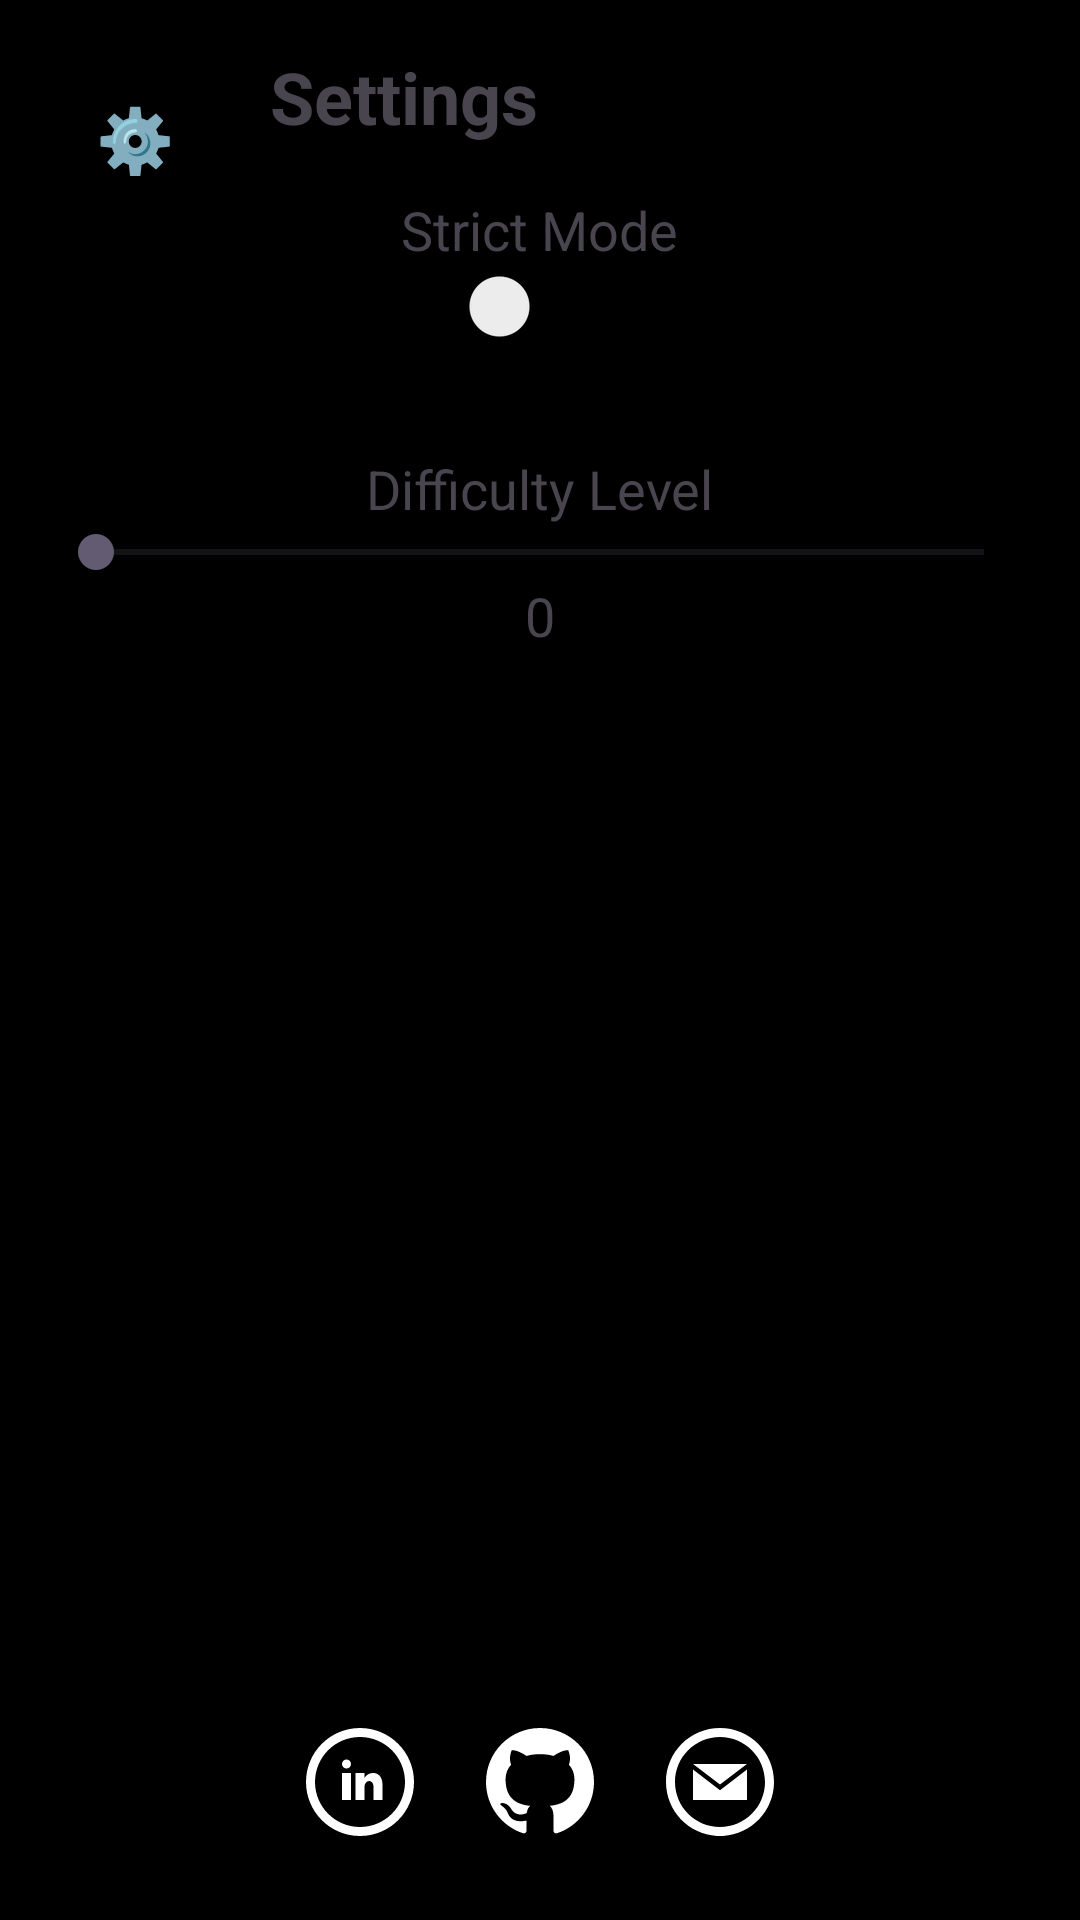

Locate icon controls on the screen. Image size 1080w x 1920h, boxes as (x1, y1, x2, y2).
email: (666, 1728, 774, 1836)
